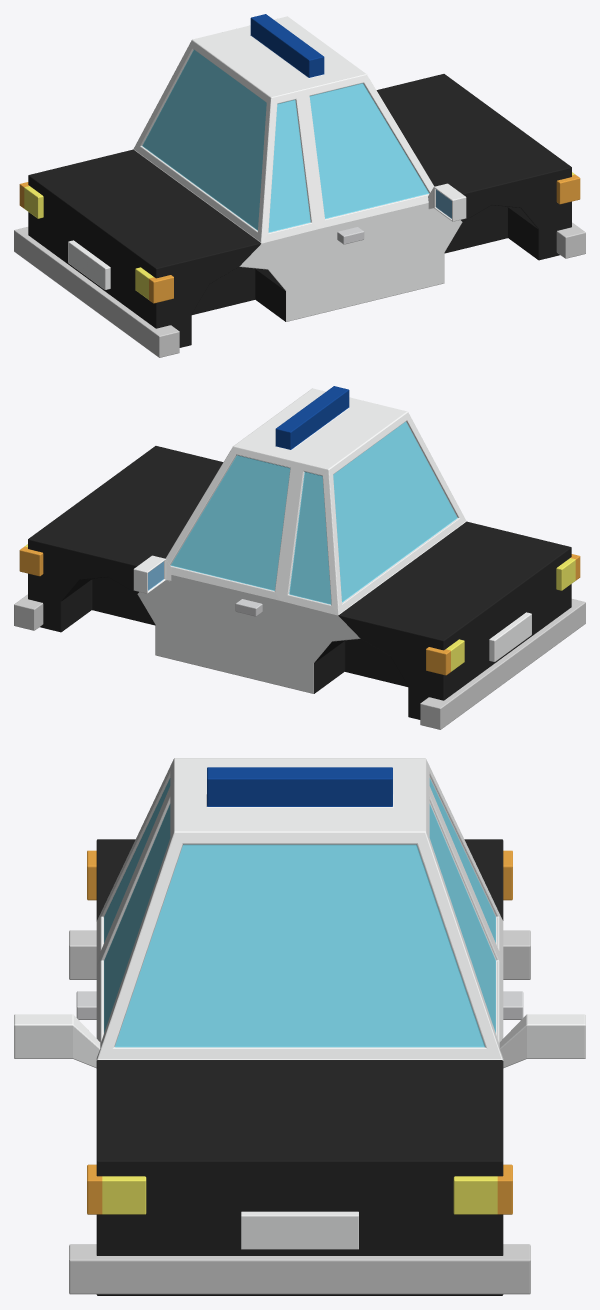
The model's file is Car_police.fbx.
3 renders of one model, top to bottom at view 1: azimuth 30°, elevation 25°; view 2: azimuth 150°, elevation 25°; view 3: azimuth 270°, elevation 25°, orthographic. The views are drawn at different scales.
Visible parts, largest first — view 1: Car_police; view 2: Car_police; view 3: Car_police.
Part boxes in pixels (bbox=[...]): Car_police: bbox=[14, 14, 585, 357]; Car_police: bbox=[14, 386, 585, 729]; Car_police: bbox=[14, 758, 585, 1295].
Size of the model in its own units: 385 by 192 by 282.
